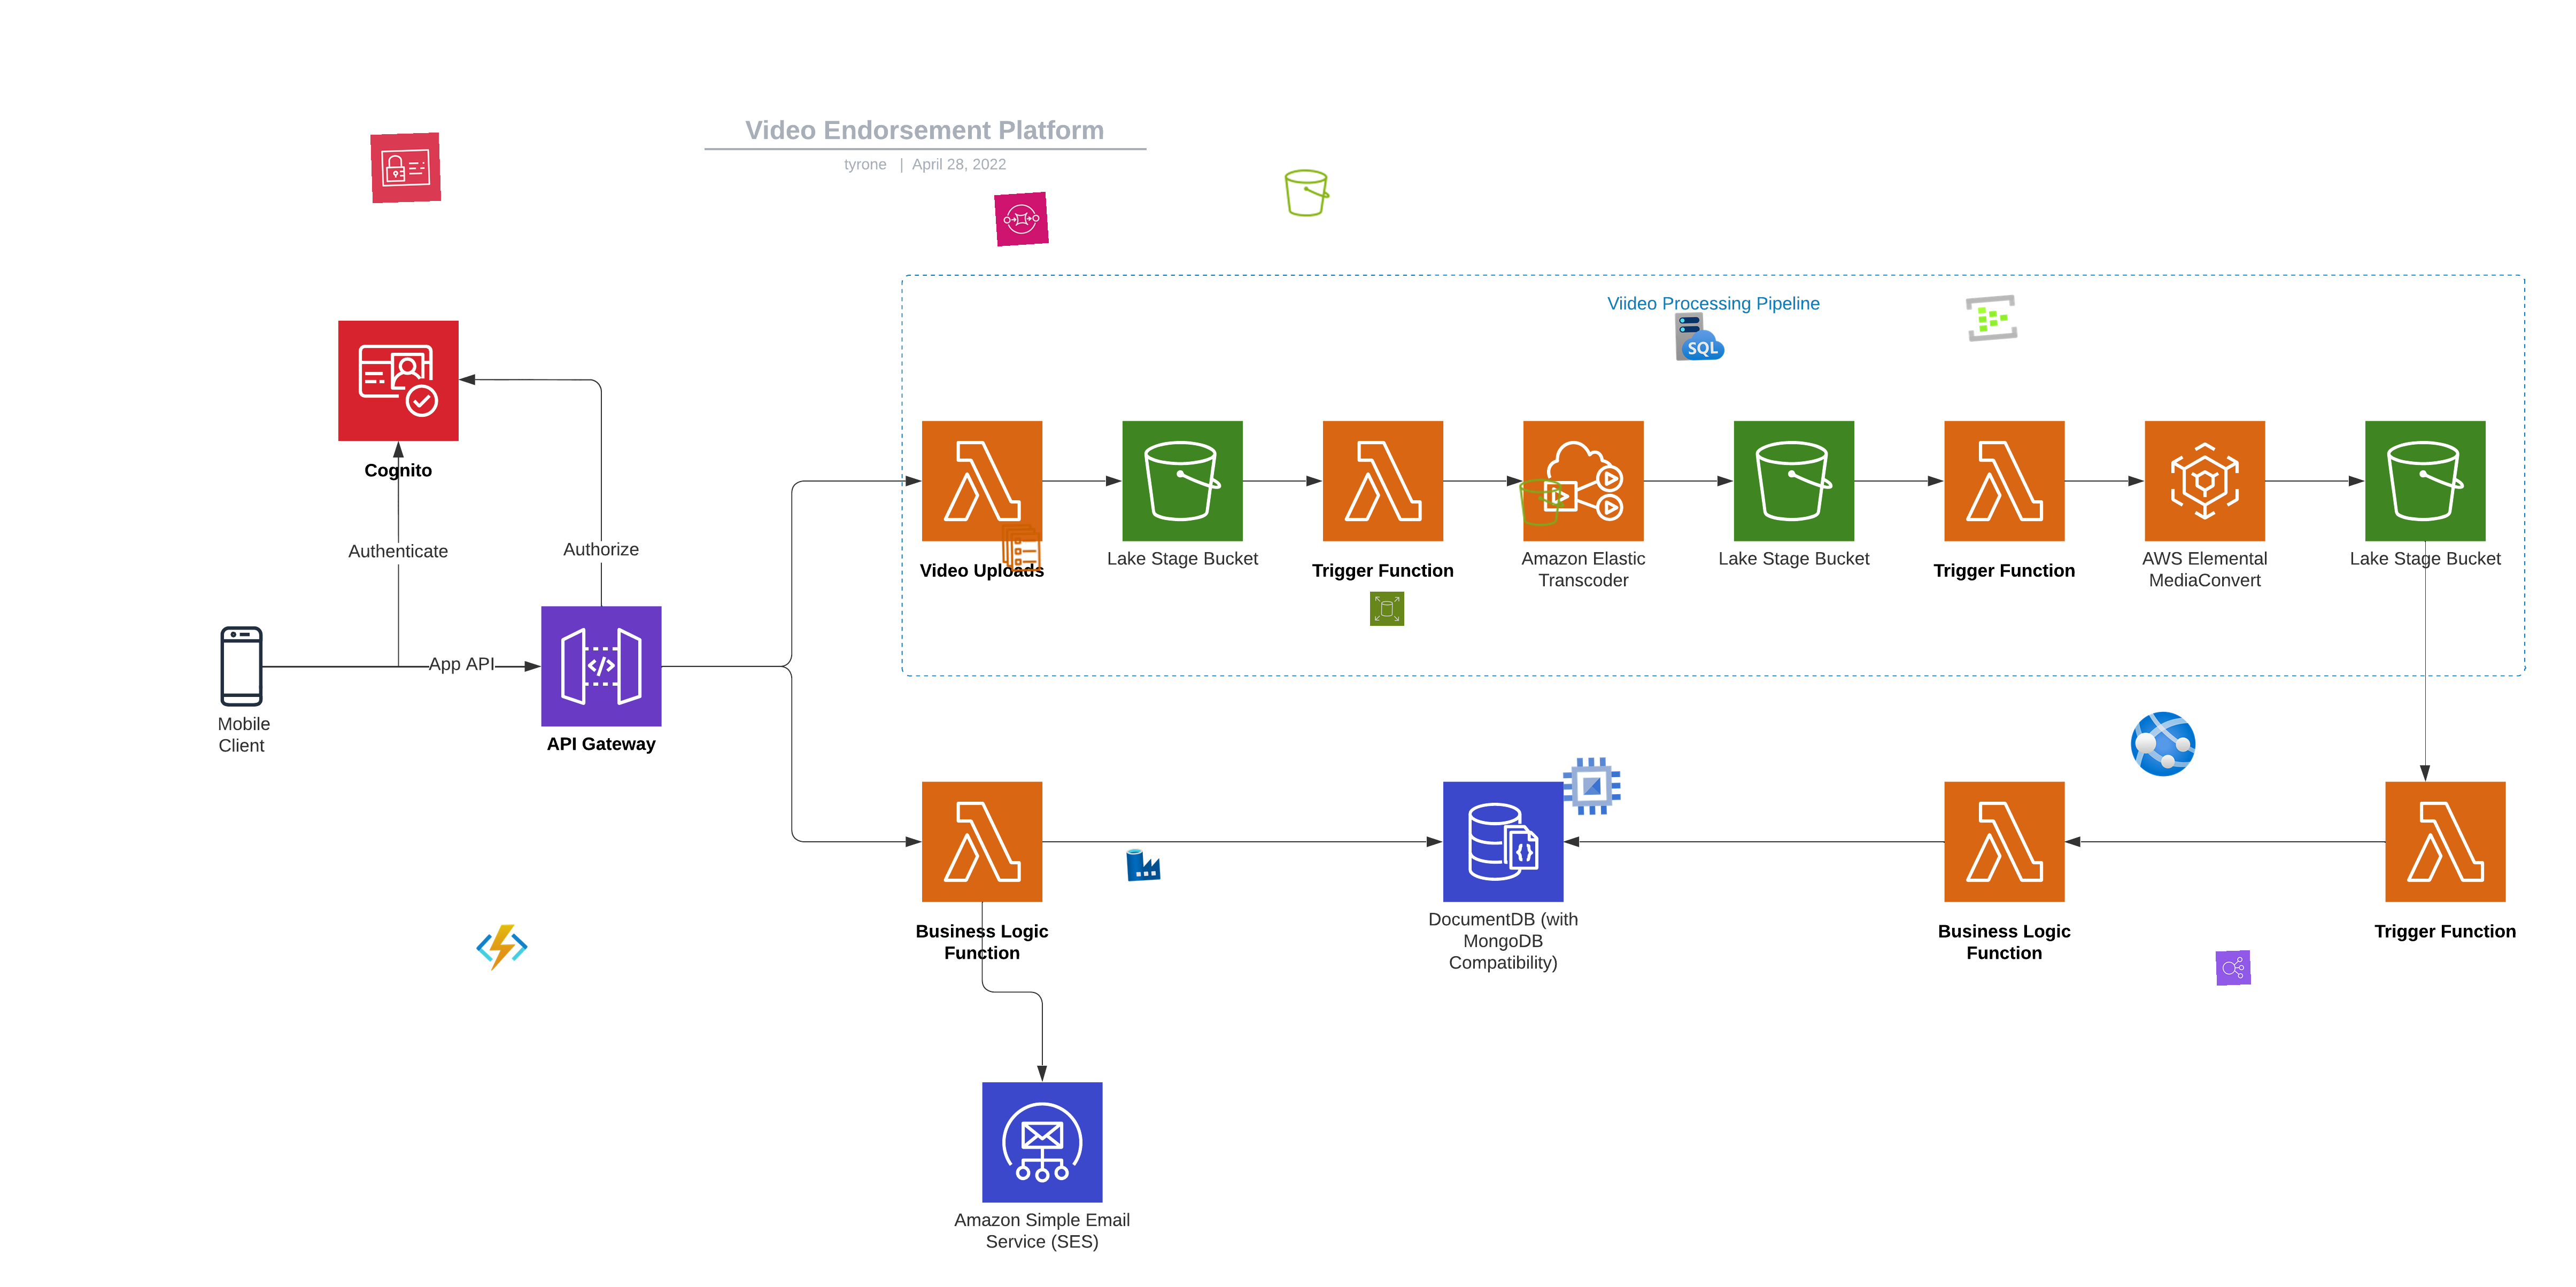aws_amazon_elastic_block_store: (1370, 591, 1405, 627)
aws_amazon_simple_queue_service: (994, 192, 1050, 246)
aws_elastic_container_service_service: (996, 522, 1048, 575)
aws_elastic_load_balancing: (2215, 950, 2251, 987)
aws_identity_and_access_management: (370, 131, 442, 204)
aws_simple_storage_service_bucket: (1515, 476, 1567, 529)
aws_simple_storage_service_s3_standard: (1281, 167, 1332, 218)
azure_app_services: (2128, 709, 2198, 780)
azure_data_factories: (1125, 845, 1162, 883)
azure_event_hubs: (1963, 291, 2019, 346)
azure_function_apps: (475, 921, 529, 975)
azure_sql_managed_instance: (1672, 310, 1727, 363)
gcp_compute_engine: (1557, 750, 1626, 821)
